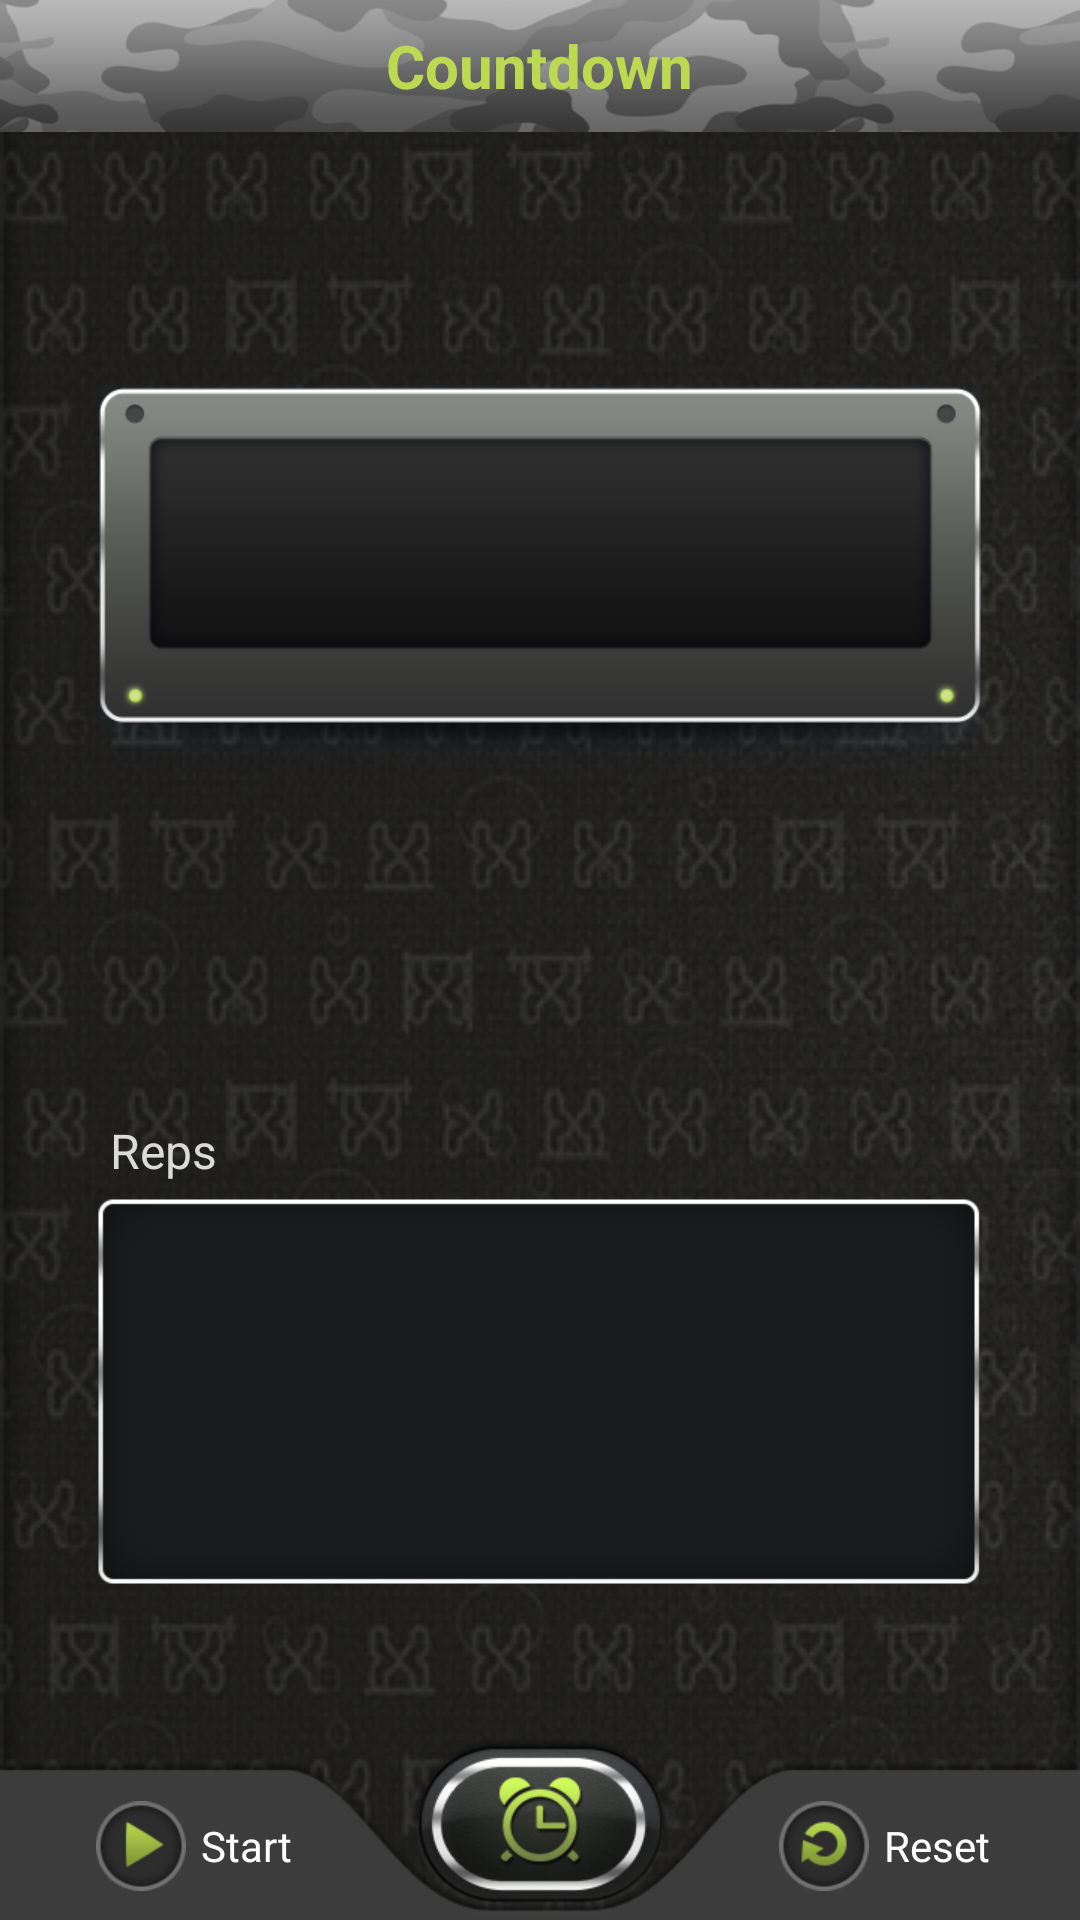

Screen size 1080x1920. Icon name, then its box in pixels as (x1, y1, x2, y2):
setting timer: (423, 1750, 658, 1891)
